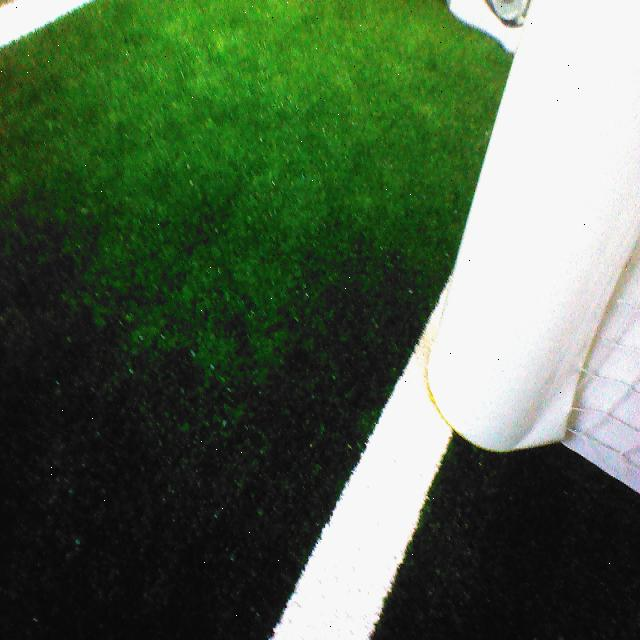goalpost: (423, 1, 639, 448)
